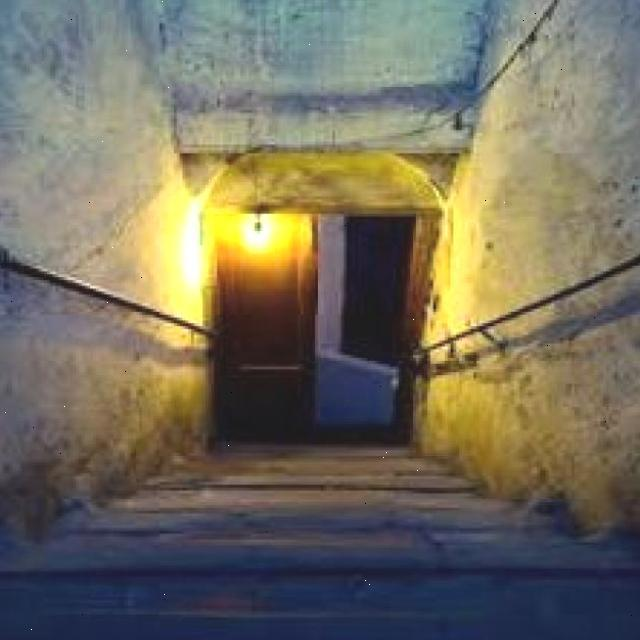stair: (53, 456, 566, 594)
